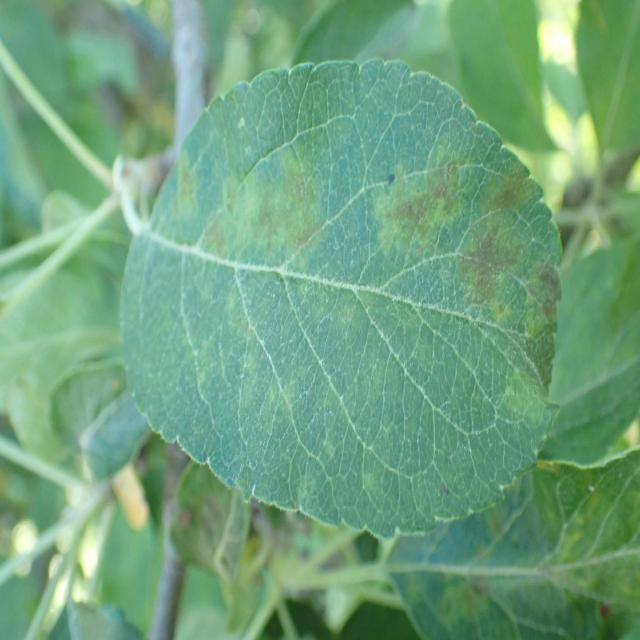scab: (154, 129, 571, 470)
